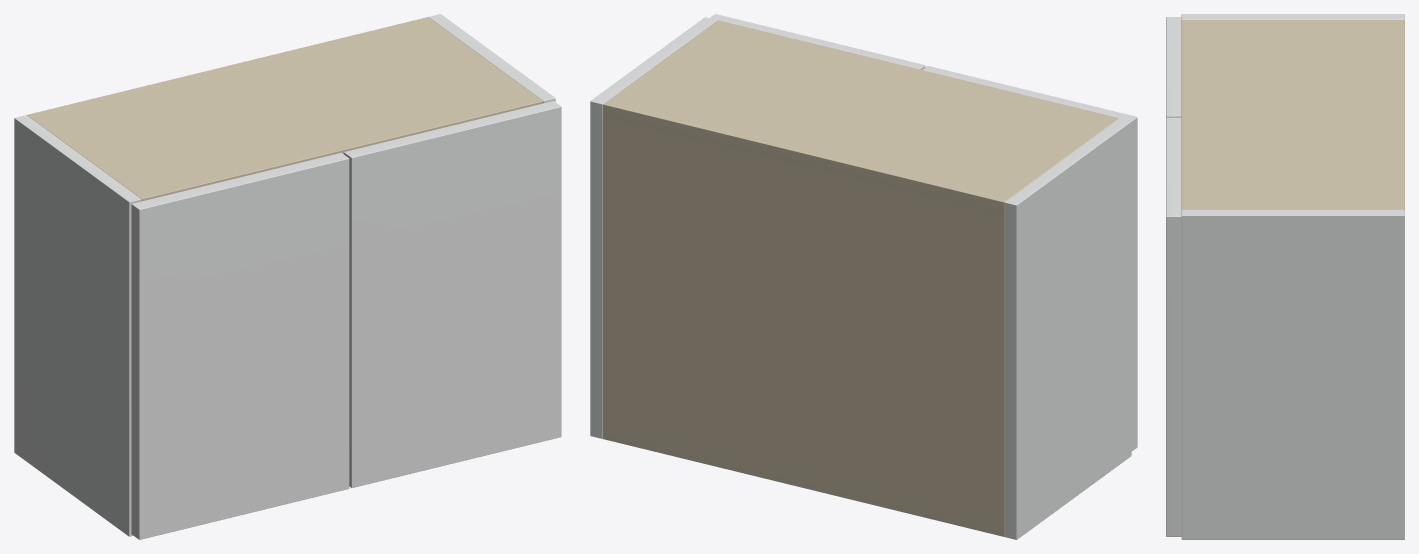
The model's file is oppein-ply-pgw-w2418.glb.
The picture shows the model from 3 angles, left to right: view 1: azimuth 30°, elevation 25°; view 2: azimuth 150°, elevation 25°; view 3: azimuth 270°, elevation 25°; orthographic projection. The views are drawn at different scales.
Parts seen in each view (by area): view 1: Door, Door.001, Cabinet top, Cabinet side, Cabinet back, Cabinet side.001; view 2: Cabinet back, Cabinet top, Cabinet side, Cabinet side.001, Door, Cabinet bottom, Door.001; view 3: Cabinet side.001, Cabinet top, Door.001, Cabinet back, Door, Cabinet side.
Part boxes in pixels (x1,y1,x2,y2): Door: [131, 152, 349, 539]; Door.001: [343, 101, 561, 487]; Cabinet top: [28, 20, 542, 201]; Cabinet side: [14, 115, 141, 536]; Cabinet back: [27, 17, 431, 118]; Cabinet side.001: [428, 14, 555, 103]; Cabinet back: [603, 101, 1008, 536]; Cabinet top: [603, 20, 1118, 214]; Cabinet side: [1004, 118, 1131, 539]; Cabinet side.001: [590, 17, 717, 438]; Door: [922, 66, 1137, 451]; Cabinet bottom: [603, 427, 1004, 536]; Door.001: [710, 14, 925, 69]; Cabinet side.001: [1181, 210, 1404, 539]; Cabinet top: [1181, 20, 1404, 209]; Door.001: [1166, 117, 1181, 536]; Cabinet back: [1396, 20, 1404, 209]; Door: [1166, 17, 1181, 117]; Cabinet side: [1181, 14, 1404, 19].
Bounding box in the file's own units: 0.6096 × 0.4572 × 0.3048.
